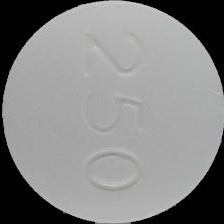65162-188: (0, 0, 224, 224)
